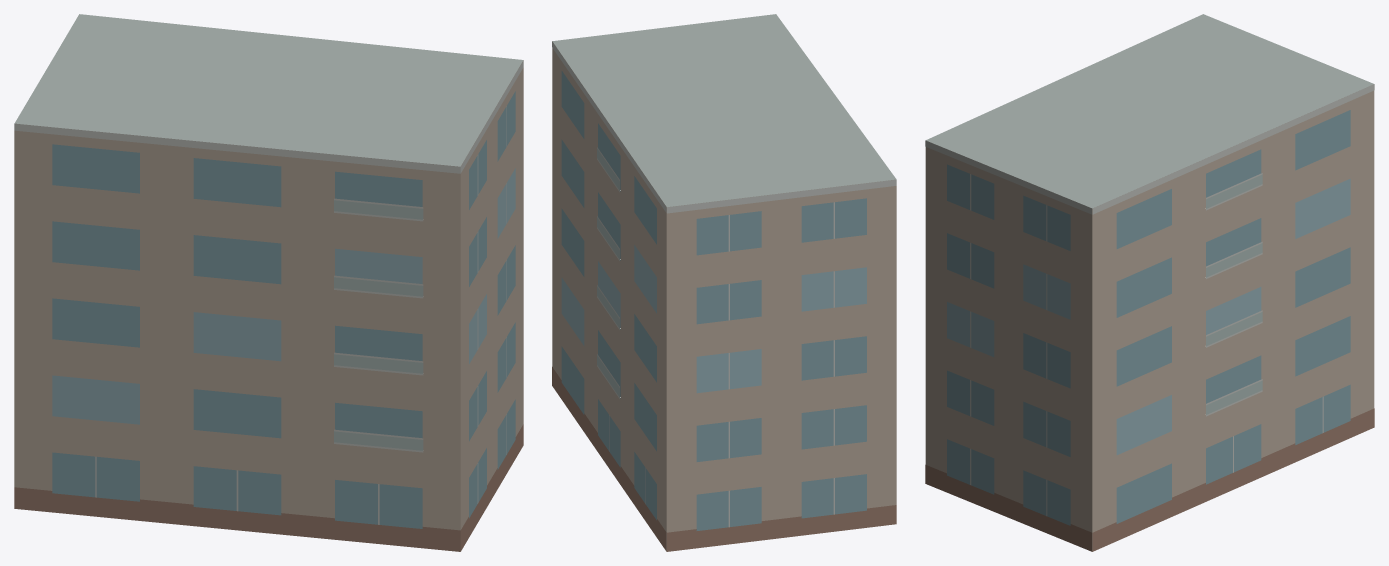
The model's file is survey-upis-32998580.glb.
3 renders of one model, left to right at view 1: azimuth 30°, elevation 25°; view 2: azimuth 150°, elevation 25°; view 3: azimuth 270°, elevation 25°, orthographic. The views are drawn at different scales.
Parts seen in each view (by area): view 1: survey-upis-32998580.tmp; view 2: survey-upis-32998580.tmp; view 3: survey-upis-32998580.tmp.
Part boxes in pixels (x1,y1,x2,y2): survey-upis-32998580.tmp: (14, 14, 523, 551); survey-upis-32998580.tmp: (552, 14, 896, 551); survey-upis-32998580.tmp: (925, 14, 1374, 551).
Bounding box in the file's own units: 16.1 × 13.25 × 15.71.
